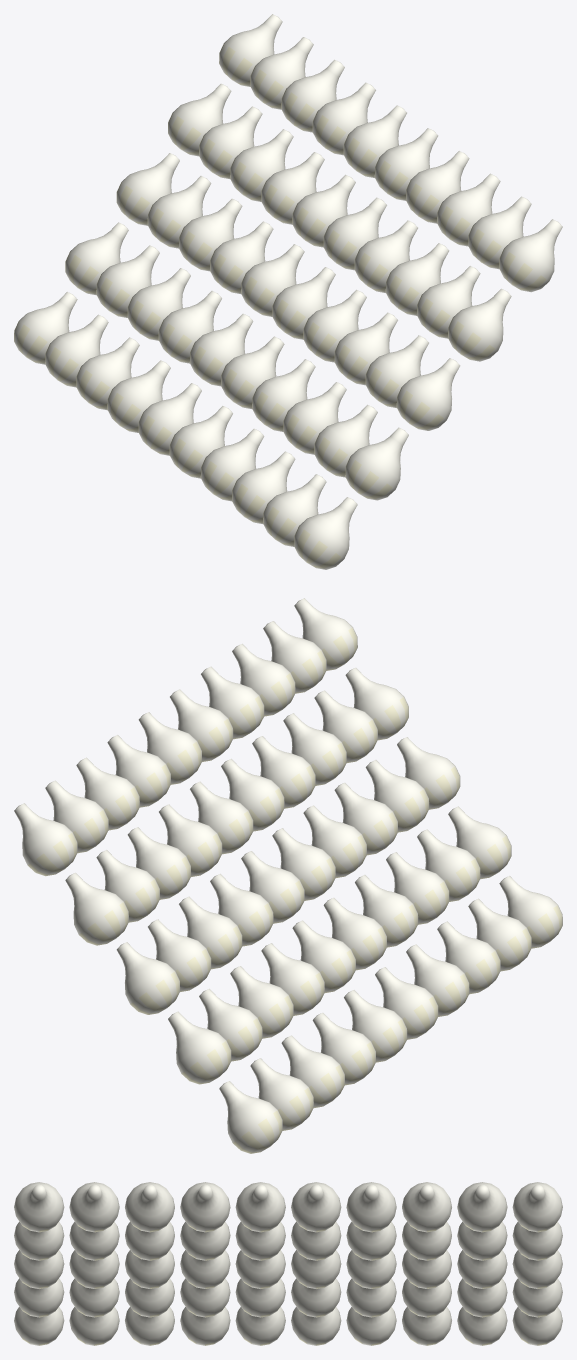
File: food-skewer-5.glb
The picture shows the model from 3 angles, top to bottom: view 1: azimuth 30°, elevation 25°; view 2: azimuth 150°, elevation 25°; view 3: azimuth 270°, elevation 25°; orthographic projection. The views are drawn at different scales.
Visible parts, largest first — view 1: Object_59; view 2: Object_59; view 3: Object_59.
Part boxes in pixels (<box>): Object_59: <box>14,14,562,569</box>; Object_59: <box>14,598,562,1153</box>; Object_59: <box>14,1182,562,1345</box>.
Bounding box in the file's own units: 0.2847 × 0.2999 × 0.5756.
Materials: 1 (1 with a texture image).
